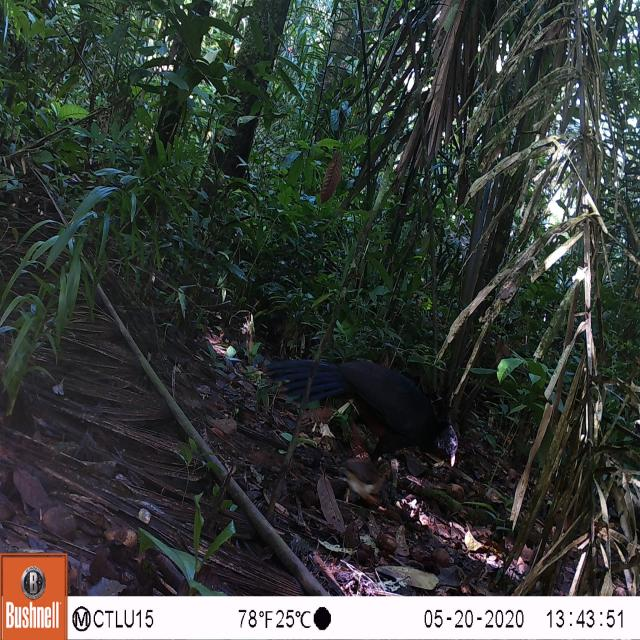Salvins Curassow: (261, 340, 479, 468)
